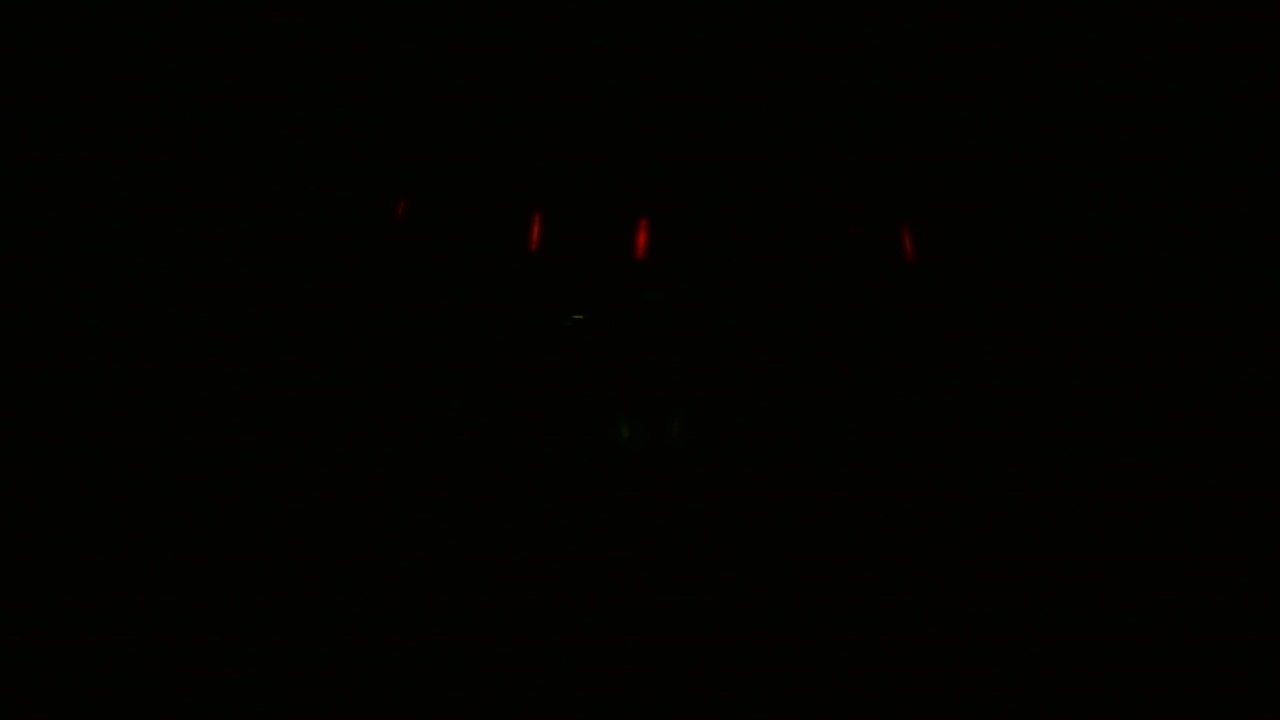pair1: (526, 210, 645, 263)
